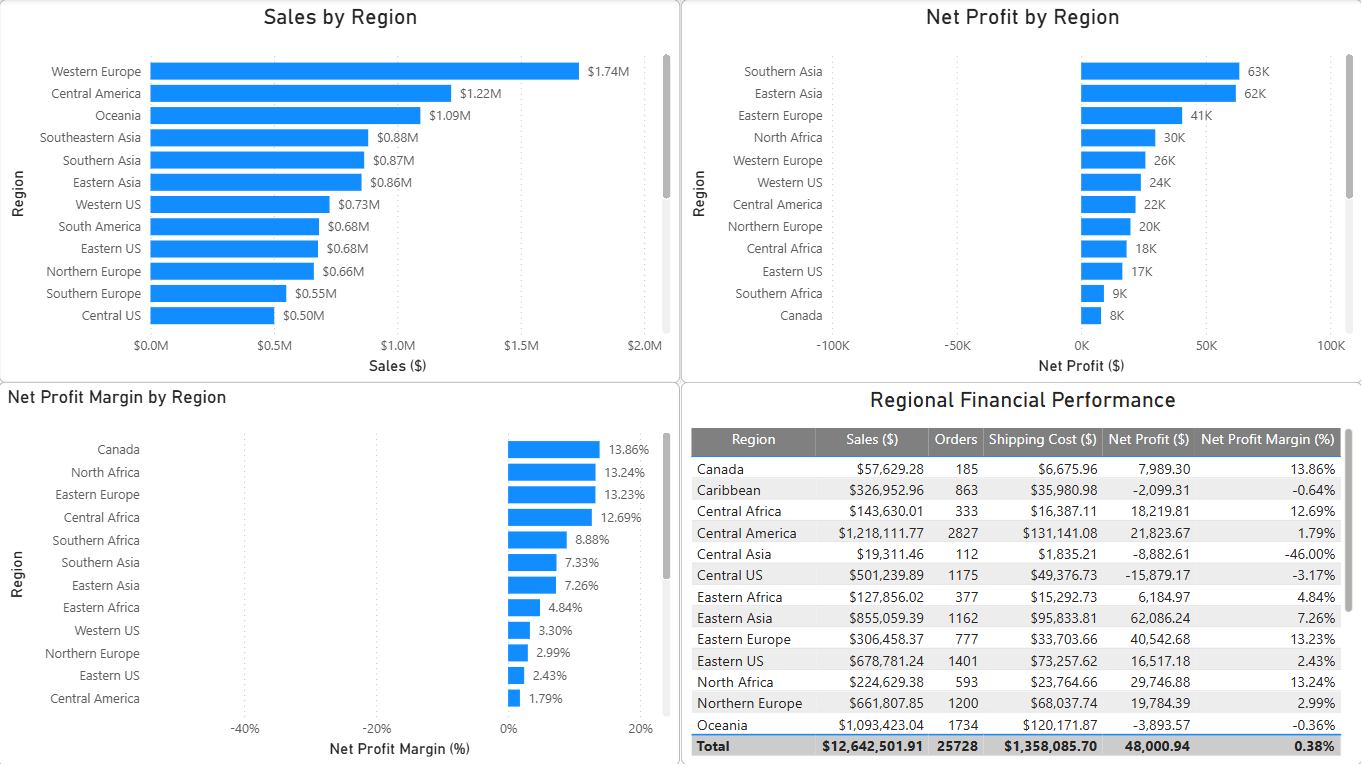

What the dashboard file says about the page in this screenshot:
{"tool":"powerbi","page":{"name":"Regional Analysis","canvas":[1280,720],"ordinal":3},"visuals":[{"type":"clusteredBarChart","title":"Sales by Region","fields":{"Category":["Address.Region"],"Y":["Sum(Orders.Sales)"]},"box":[1.3,0,639,361.1],"z":0},{"type":"clusteredBarChart","title":"Net Profit by Region","fields":{"Category":["Address.Region"],"Y":["_Measures.Profit after Shipping and Returns"]},"box":[640.3,0,640.3,361.1],"z":1000},{"type":"clusteredBarChart","title":"Net Profit Margin by Region","fields":{"Category":["Address.Region"],"Y":["_Measures.Profit Margin after Shipping and Returns (%)"]},"box":[0,359.8,640.3,361.1],"z":2000},{"type":"tableEx","title":"Regional Financial Performance","fields":{"Values":["Address.Region","Sum(Orders.Sales)","_Measures.Total orders","_Measures.Total Shipping Cost","_Measures.Profit after Shipping and Returns","_Measures.Profit Margin after Shipping and Returns (%)"]},"box":[640.3,359.8,640.3,359.8],"z":3000}]}

Visuals, with their boxes in screenshot pixels (x1, y1, x2, y2), scaled from the page's 1280x720 canvas onto the 1362x767 screenshot:
"Sales by Region" clusteredBarChart: pyautogui.locateOnScreen(1, 0, 681, 385)
"Net Profit by Region" clusteredBarChart: pyautogui.locateOnScreen(681, 0, 1361, 385)
"Net Profit Margin by Region" clusteredBarChart: pyautogui.locateOnScreen(0, 383, 681, 766)
"Regional Financial Performance" tableEx: pyautogui.locateOnScreen(681, 383, 1361, 766)
